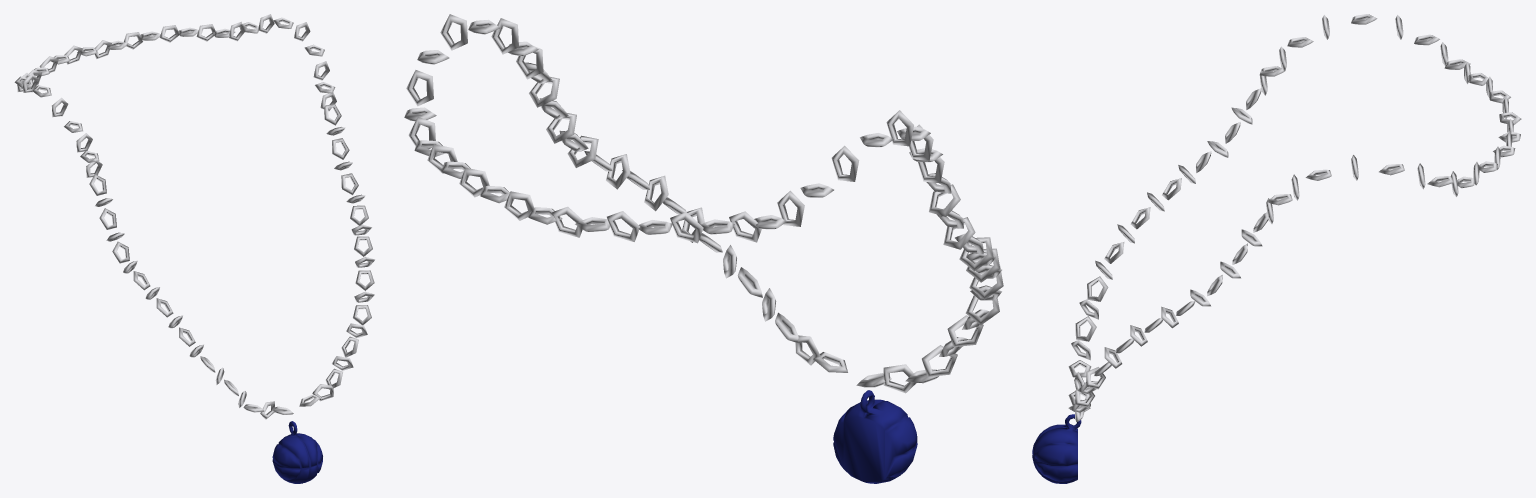
File: acc_chain_ball.glb
3 views of the same model, side by side, from view 1: azimuth 30°, elevation 25°; view 2: azimuth 150°, elevation 25°; view 3: azimuth 270°, elevation 25° (orthographic). The views are drawn at different scales.
Visible parts, largest first — view 1: acc_chain_ball_0_metal, acc_chain_ball_1_secondary; view 2: acc_chain_ball_0_metal, acc_chain_ball_1_secondary; view 3: acc_chain_ball_0_metal, acc_chain_ball_1_secondary.
Boxes of the visible parts, <box> form: acc_chain_ball_0_metal: <box>14,14,374,419</box>; acc_chain_ball_1_secondary: <box>272,421,322,483</box>; acc_chain_ball_0_metal: <box>404,14,1003,393</box>; acc_chain_ball_1_secondary: <box>833,390,917,483</box>; acc_chain_ball_0_metal: <box>1068,14,1521,422</box>; acc_chain_ball_1_secondary: <box>1032,414,1081,483</box>.
Size of the model in its own units: 0.1856 by 0.2196 by 0.2442.
